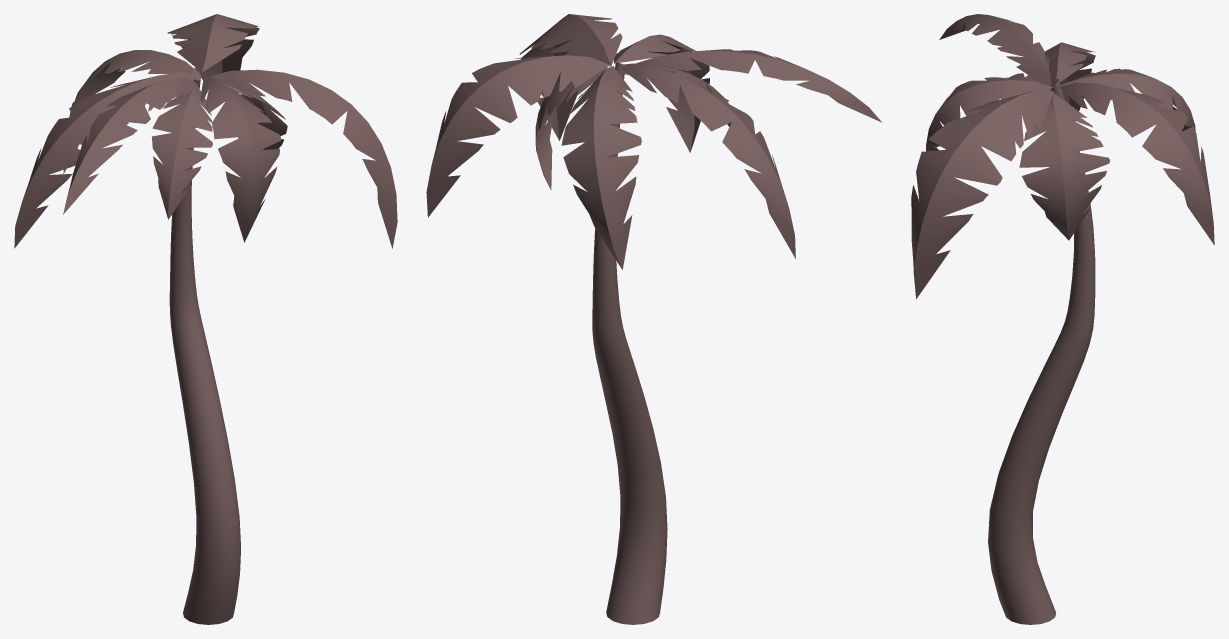
The model's file is Small_Palm.fbx.
3 renders of one model, left to right at view 1: azimuth 30°, elevation 25°; view 2: azimuth 150°, elevation 25°; view 3: azimuth 270°, elevation 25°, orthographic. The views are drawn at different scales.
Parts seen in each view (by area): view 1: Small_Palm; view 2: Small_Palm; view 3: Small_Palm.
Boxes of the visible parts, <box> form: Small_Palm: <box>14,14,397,624</box>; Small_Palm: <box>426,14,881,624</box>; Small_Palm: <box>911,14,1214,624</box>.
Size of the model in its own units: 25.4 by 40.99 by 20.53.
